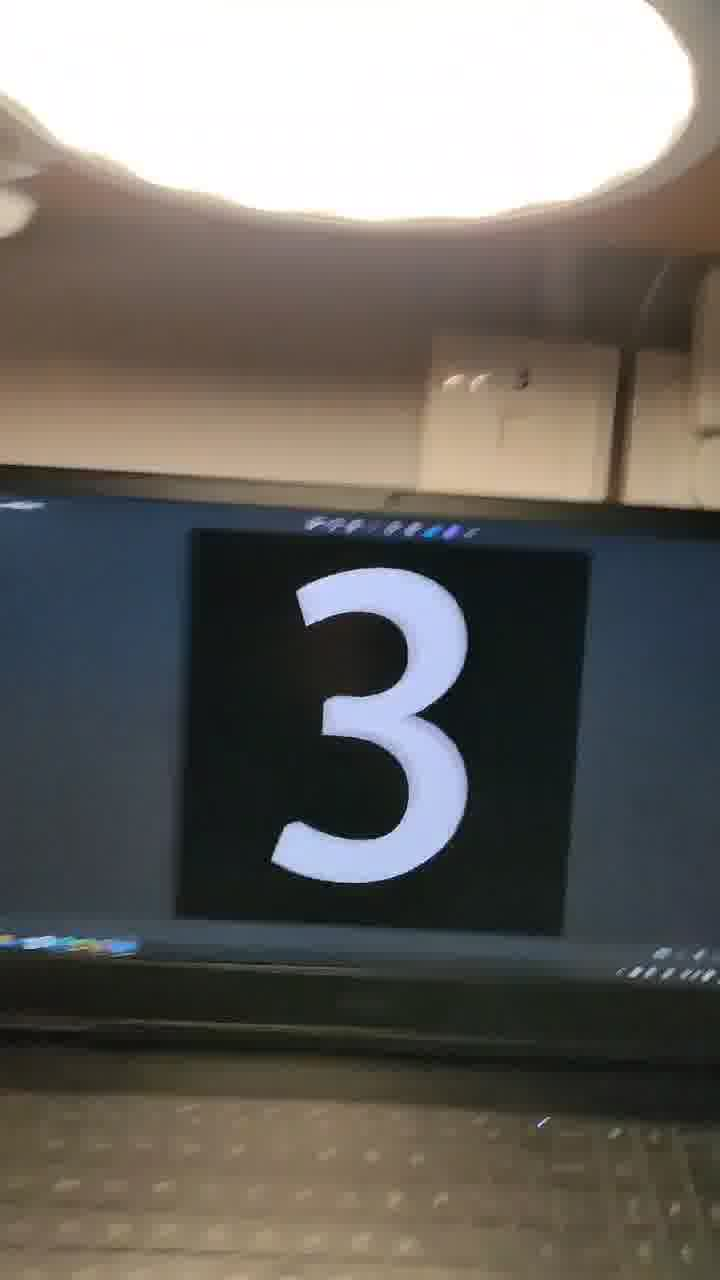three: (171, 463, 513, 921)
